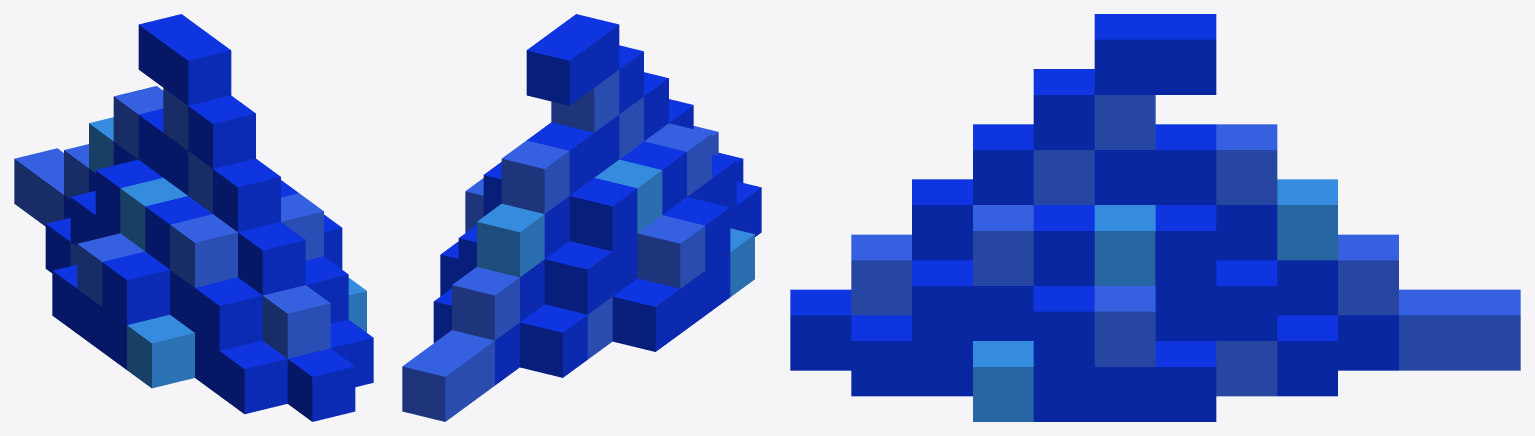
File: Slime_Idle0.obj
3 renders of one model, left to right at view 1: azimuth 30°, elevation 25°; view 2: azimuth 150°, elevation 25°; view 3: azimuth 270°, elevation 25°, orthographic. The views are drawn at different scales.
Size of the model in its own units: 5 by 6 by 12.
1 material, 1 textured.
